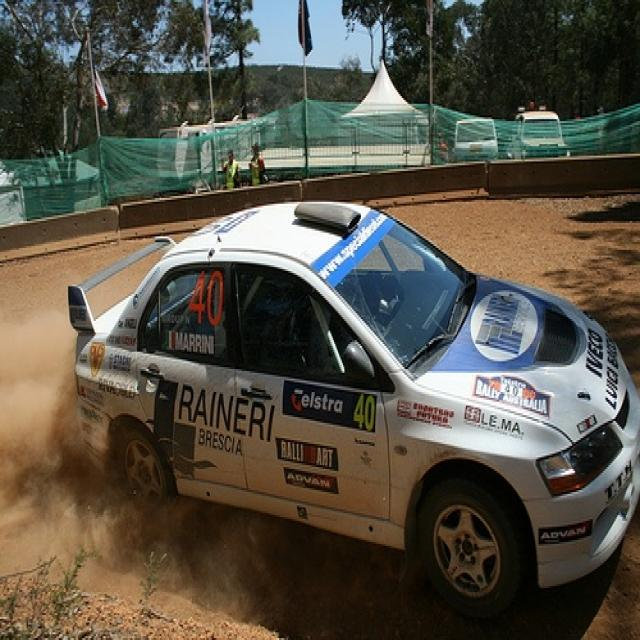car: (65, 196, 639, 621), (512, 102, 571, 157), (449, 116, 503, 162)
